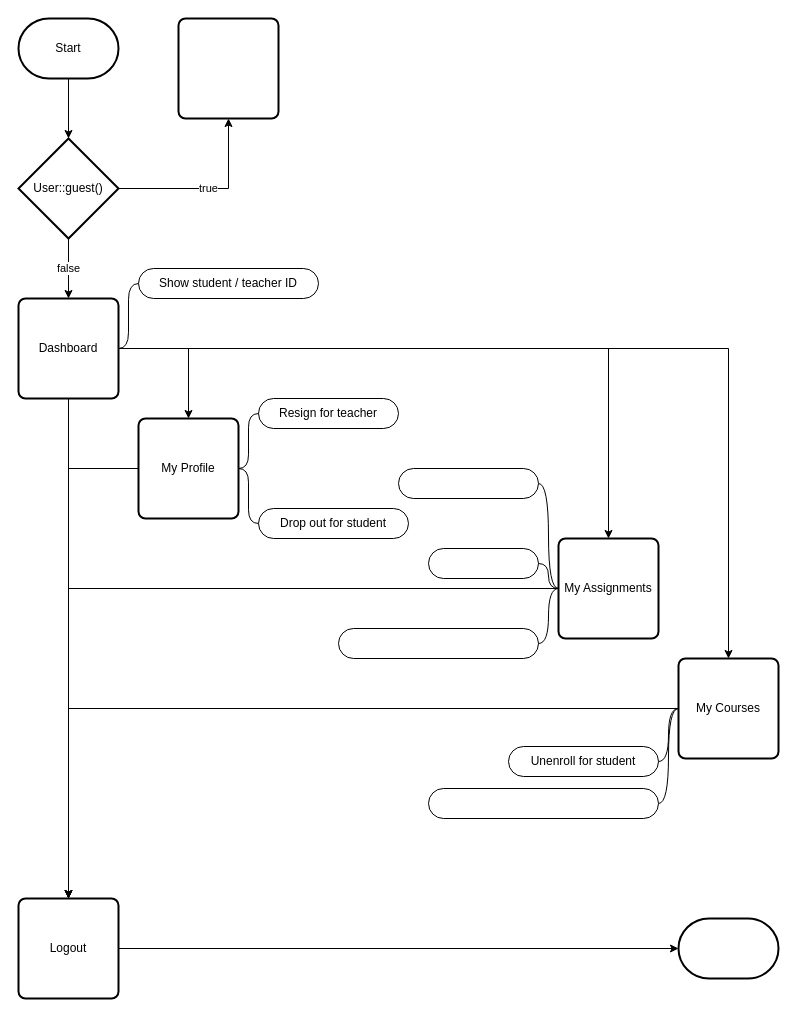
Image size: 796x1016. Some labels were removed from this diagram. The shapes that lost their labels are listed below. From the top down, each one's centre as x and y in pixels, then its label:
At point (228, 68): "Login".
At point (468, 483): "CRUD for teacher".
At point (483, 563): "R for student".
At point (438, 643): "Done assignments for student".
At point (543, 803): "Change teaching course for teacher".
At point (728, 948): "End".
